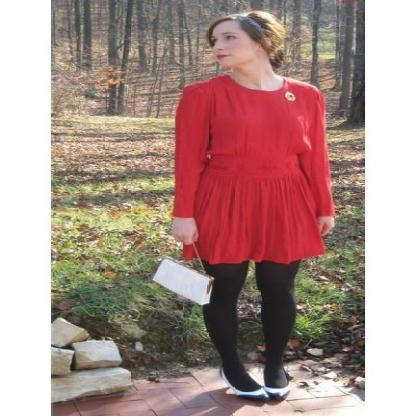bag: (153, 260, 211, 304)
dress: (166, 75, 332, 263)
shoe: (240, 384, 280, 397)
